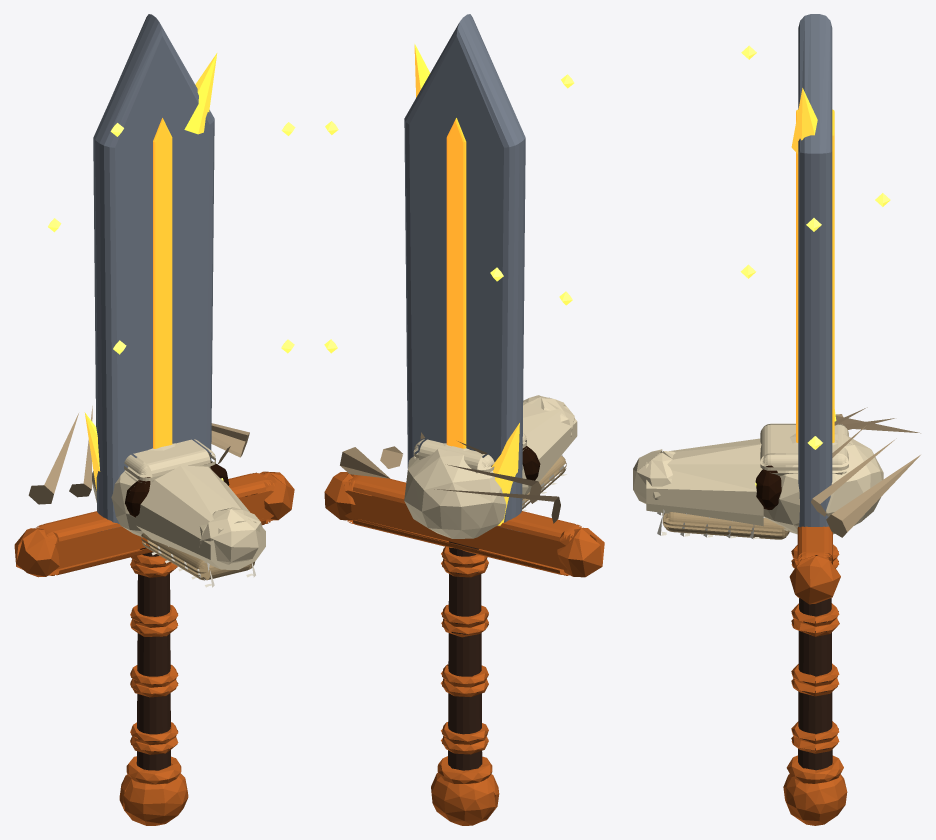
File: dragonfang_greatsword.glb
3 renders of one model, left to right at view 1: azimuth 30°, elevation 25°; view 2: azimuth 150°, elevation 25°; view 3: azimuth 270°, elevation 25°, orthographic.
Parts seen in each view (by area): view 1: dragonfang_greatsword; view 2: dragonfang_greatsword; view 3: dragonfang_greatsword.
Part boxes in pixels (box(x1,y1,x2,y2)): dragonfang_greatsword: box(14, 14, 295, 825); dragonfang_greatsword: box(324, 14, 604, 825); dragonfang_greatsword: box(633, 14, 920, 825).
Size of the model in its own units: 0.9697 by 2.68 by 0.8695.
